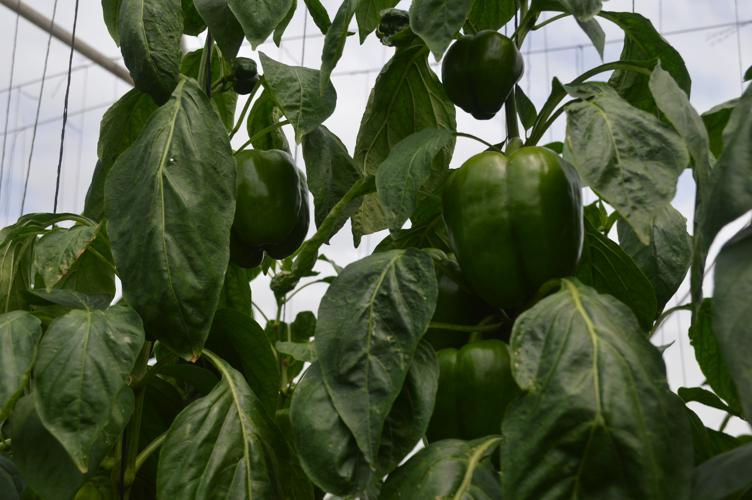BellPepper: (445, 148, 585, 298), (221, 149, 306, 267), (427, 340, 520, 447), (436, 30, 523, 122), (403, 257, 473, 343)
